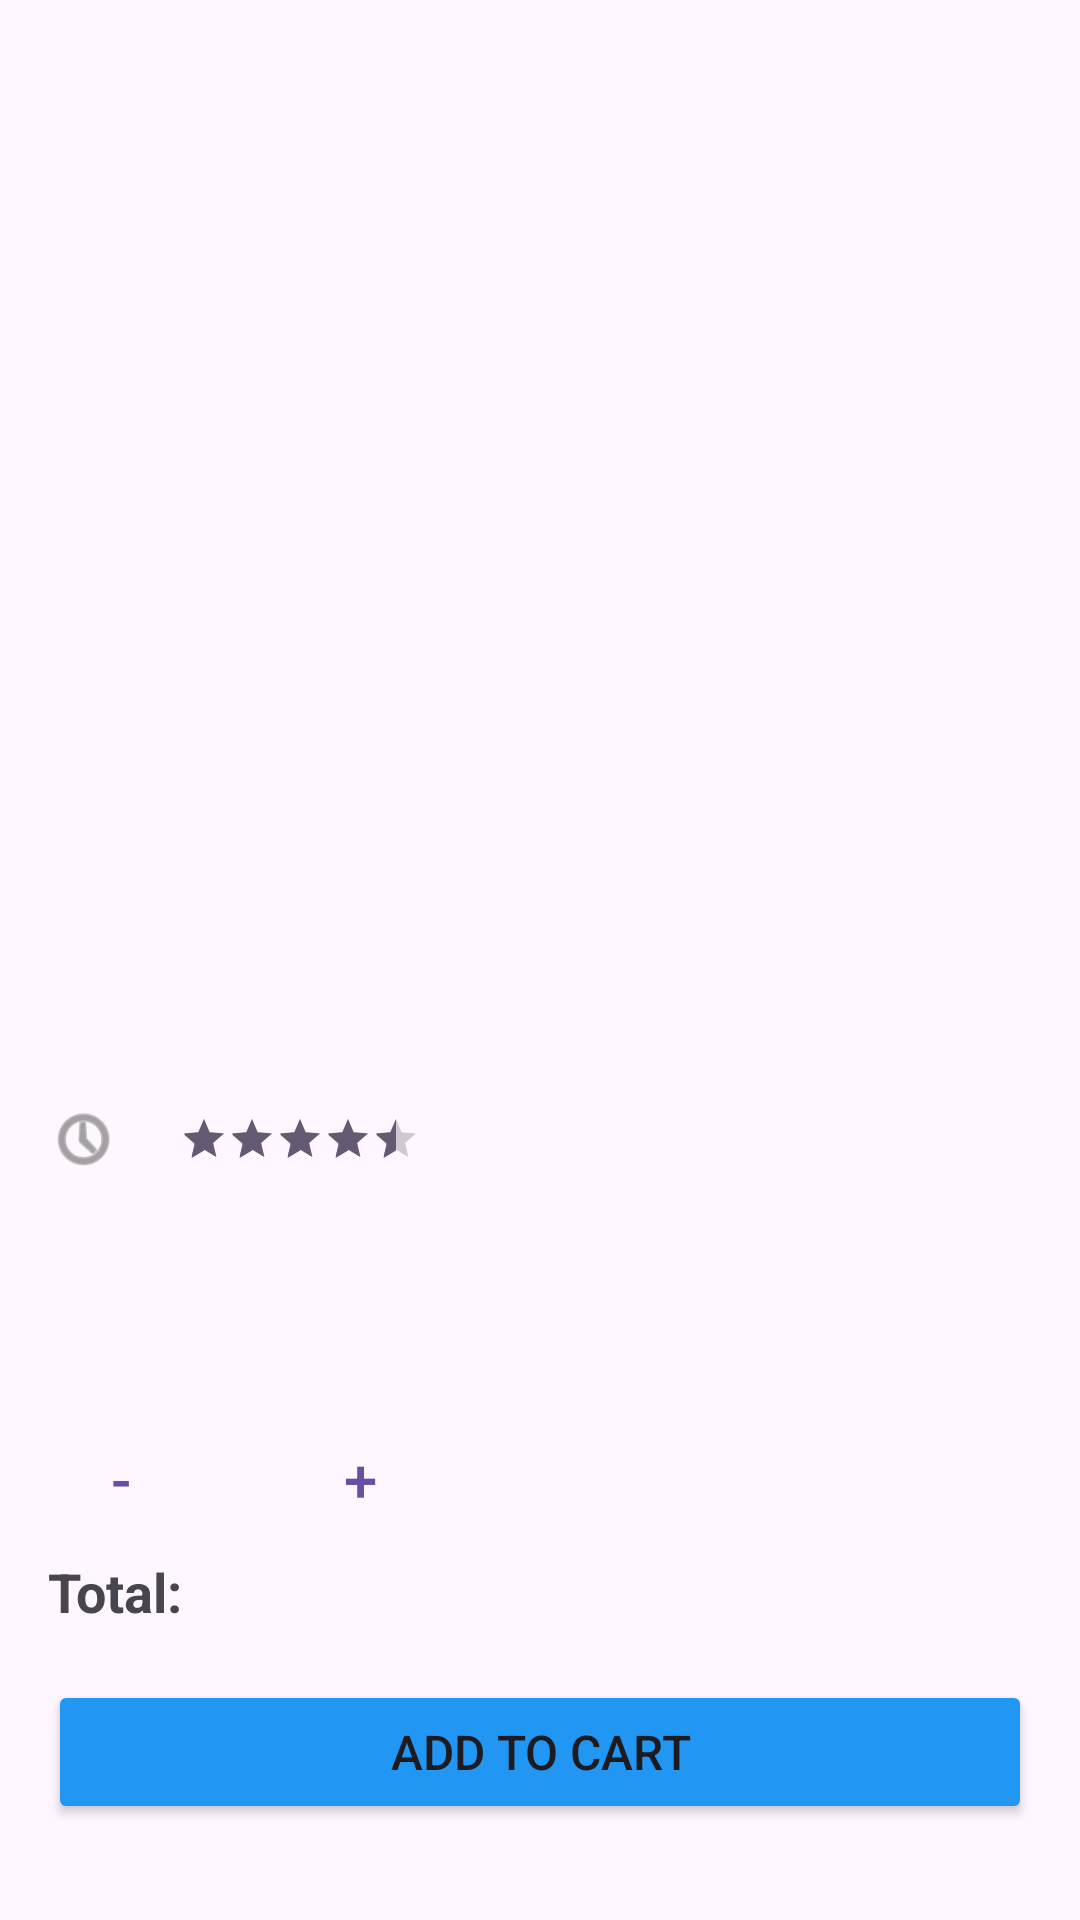

Icon click points for this 1080×1920 phone screenshot, format point (x, y):
recent history: point (84, 1139)
